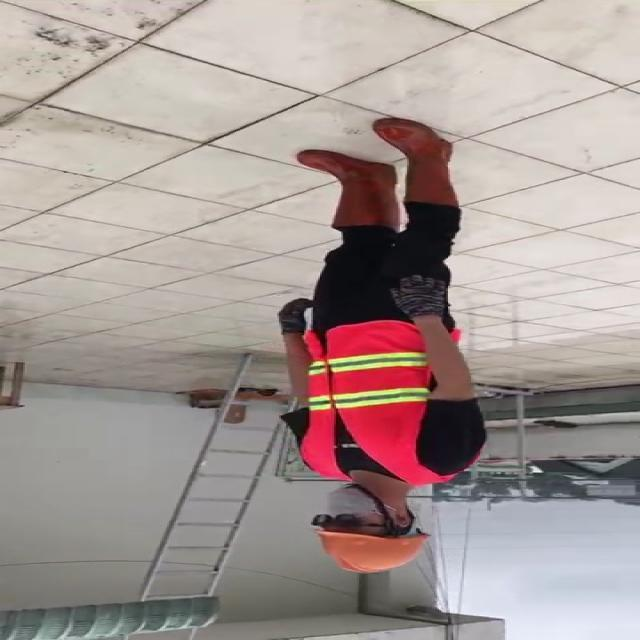Boots: (368, 115, 462, 209), (297, 148, 395, 229)
Gloves: (384, 276, 461, 317), (272, 297, 318, 337)
Helmet: (302, 522, 436, 576)
Vest: (300, 323, 466, 484)
